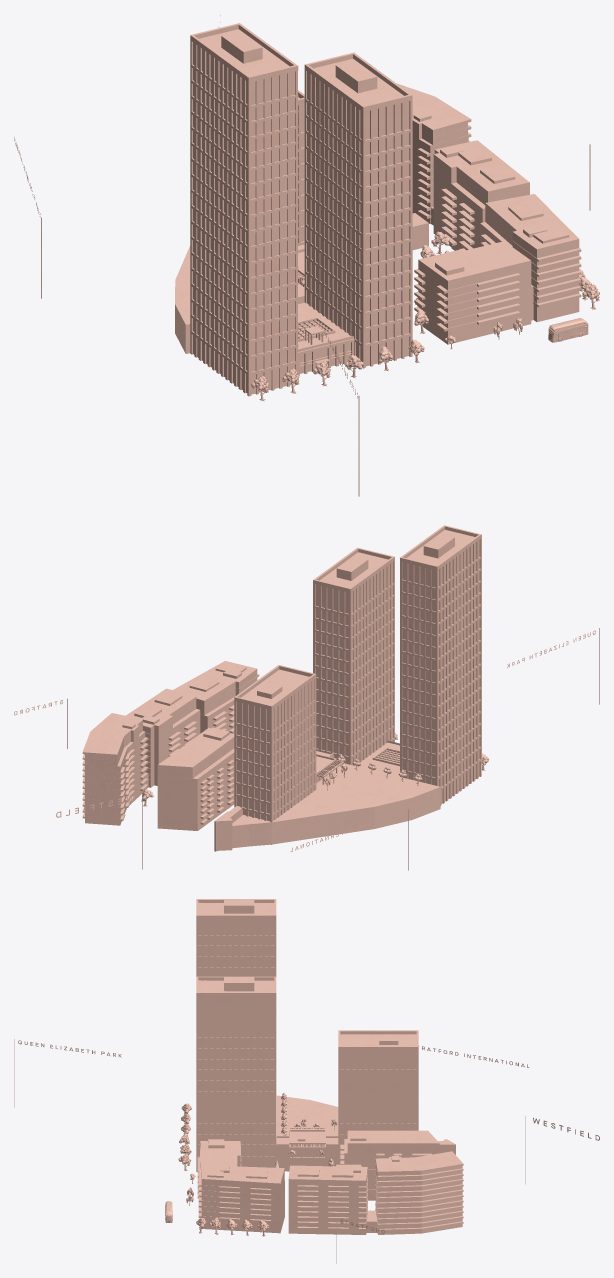
File: CMS7.gltf
3 views of the same model, one above another, from view 1: azimuth 30°, elevation 25°; view 2: azimuth 150°, elevation 25°; view 3: azimuth 270°, elevation 25° (orthographic). The views are drawn at different scales.
Parts seen in each view (by area): view 1: Xavier, Bussell, Hows, Santhu, Base, Tree, Harrison, Bus; view 2: Xavier, Bussell, Harrison, Base, Santhu, Aarons, Hows, Tree; view 3: Bussell, Santhu, Harrison, Hows, Xavier, Base, Aarons, Tree.
Part boxes in pixels (<box>): Xavier: <box>190,23,298,396</box>; Bussell: <box>304,52,412,368</box>; Hows: <box>414,194,581,344</box>; Santhu: <box>397,83,529,250</box>; Base: <box>175,244,354,375</box>; Tree: <box>251,231,599,401</box>; Harrison: <box>298,90,304,245</box>; Bus: <box>548,318,588,342</box>; Xavier: <box>400,525,481,805</box>; Bussell: <box>313,547,394,765</box>; Harrison: <box>214,665,316,850</box>; Base: <box>214,740,440,851</box>; Santhu: <box>82,688,200,825</box>; Aarons: <box>157,727,234,830</box>; Hows: <box>173,661,259,733</box>; Tree: <box>141,733,488,806</box>; Bussell: <box>196,976,276,1171</box>; Santhu: <box>288,1151,463,1234</box>; Harrison: <box>338,1030,454,1164</box>; Hows: <box>197,1139,284,1233</box>; Xavier: <box>196,899,276,976</box>; Base: <box>276,1095,455,1171</box>; Aarons: <box>340,1130,439,1200</box>; Tree: <box>178,1093,337,1236</box>.
Size of the model in its own units: 222 by 129 by 307.
7 materials, 7 textured.
